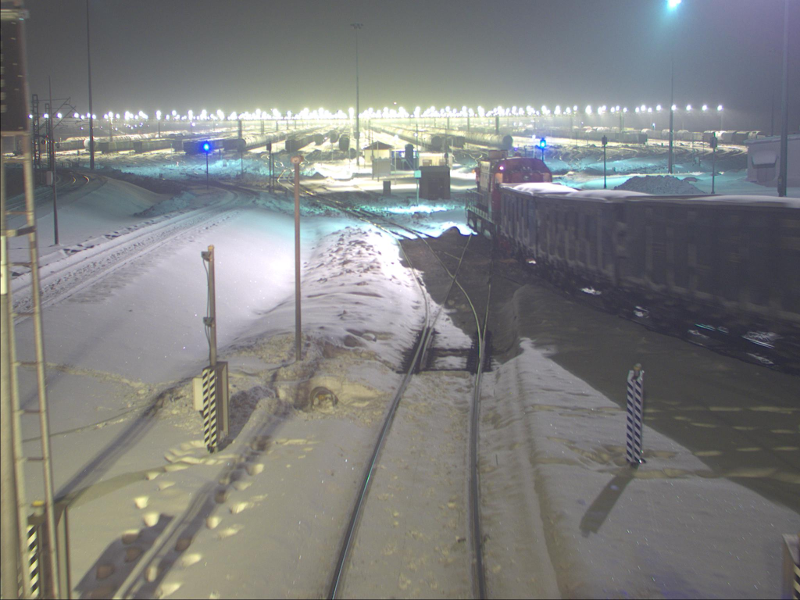left: (406, 273, 491, 373)
